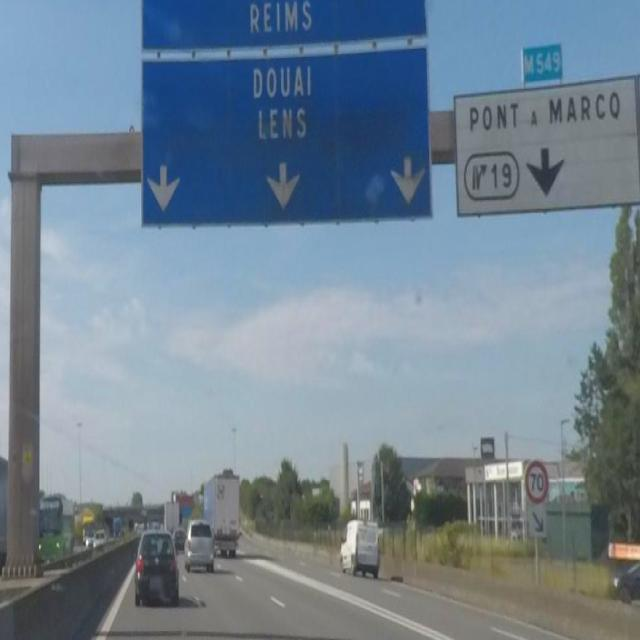speed_70: (525, 458, 549, 506)
